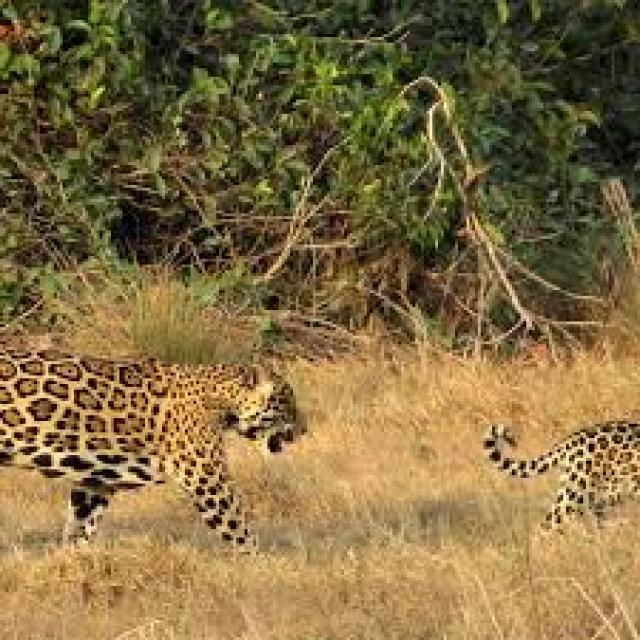Jaguar: (0, 327, 299, 563), (466, 410, 640, 534)
